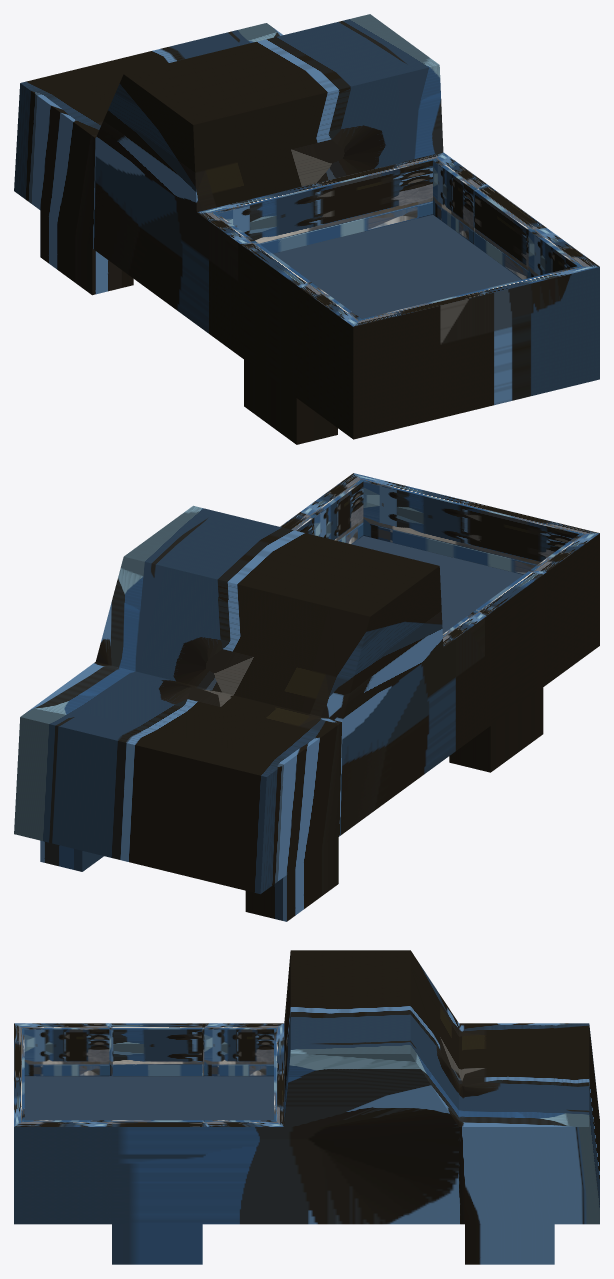
Rendered from TruckCollider.fbx.
The picture shows the model from 3 angles, top to bottom: view 1: azimuth 30°, elevation 25°; view 2: azimuth 150°, elevation 25°; view 3: azimuth 270°, elevation 25°; orthographic projection. The views are drawn at different scales.
Parts seen in each view (by area): view 1: TruckCollider; view 2: TruckCollider; view 3: TruckCollider.
Part boxes in pixels (bbox=[...]): TruckCollider: bbox=[14, 14, 599, 444]; TruckCollider: bbox=[14, 473, 599, 921]; TruckCollider: bbox=[14, 950, 599, 1264].
Bounding box in the file's own units: 1.33 × 1.26 × 3.18.
Materials: 1 (1 with a texture image).
